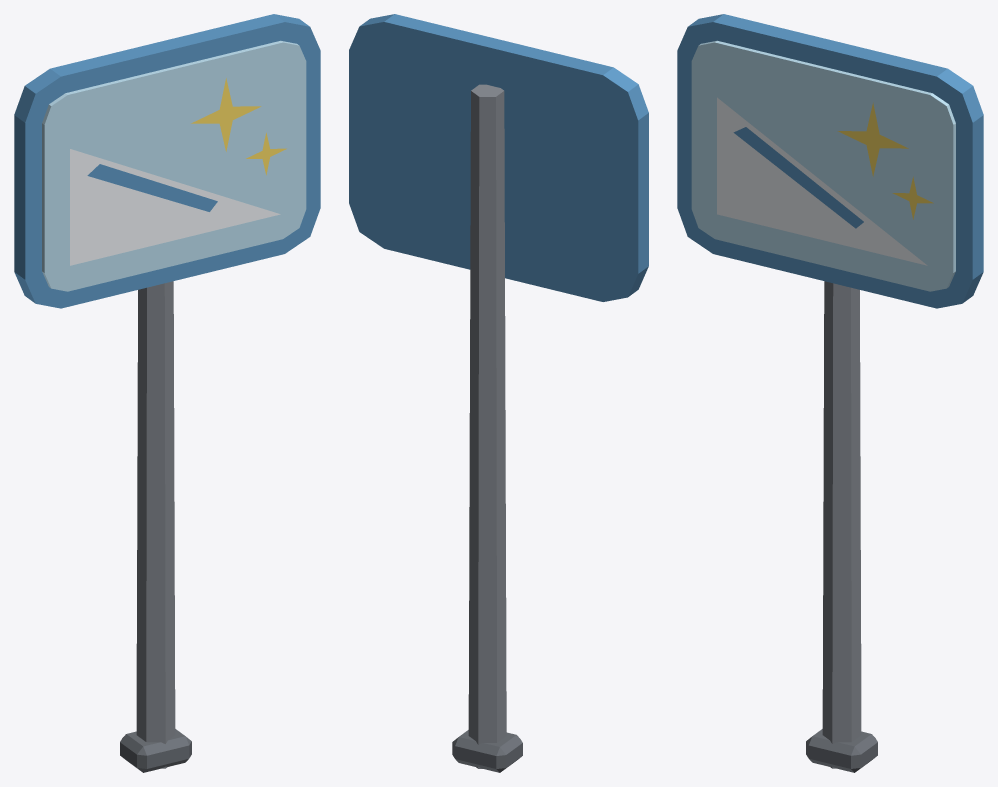
The model's file is sign-slide.glb.
3 views of the same model, side by side, from view 1: azimuth 30°, elevation 25°; view 2: azimuth 150°, elevation 25°; view 3: azimuth 330°, elevation 25° (orthographic). The views are drawn at different scales.
Visible parts, largest first — view 1: sign-slide; view 2: sign-slide; view 3: sign-slide.
Part boxes in pixels (x1,y1,x2,y2): sign-slide: (14, 14, 320, 772); sign-slide: (349, 14, 648, 772); sign-slide: (677, 14, 983, 772).
Bounding box in the file's own units: 1.4 × 3.28 × 0.264.
